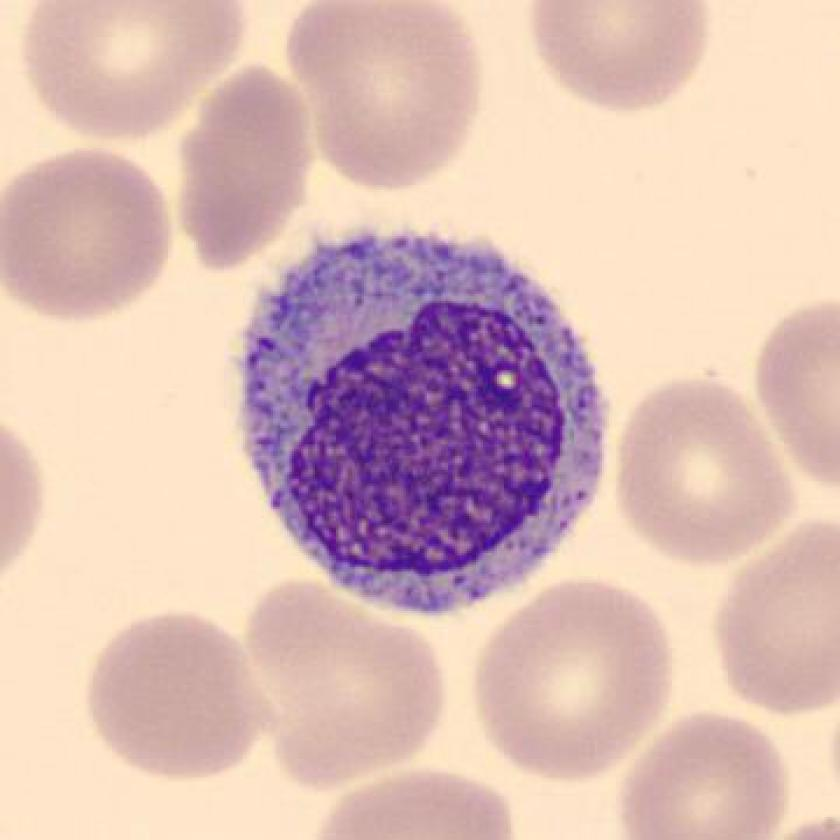monocyte: (223, 216, 631, 628), (505, 174, 507, 177)
